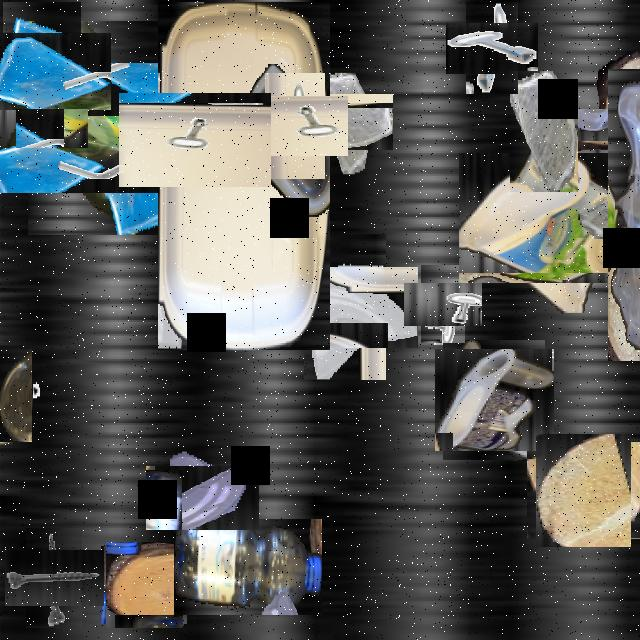glass: (288, 250, 402, 364), (0, 16, 96, 125), (510, 71, 578, 192), (158, 453, 246, 542), (305, 84, 383, 161)
metal: (254, 84, 336, 168), (15, 539, 93, 617), (456, 12, 528, 84), (412, 274, 473, 334), (24, 100, 80, 156), (33, 366, 71, 434)
plastic: (158, 2, 330, 350), (7, 42, 179, 214), (473, 139, 633, 298), (133, 79, 257, 202), (174, 519, 322, 615), (438, 344, 550, 456), (608, 69, 640, 361), (0, 347, 32, 442)
wood: (531, 438, 636, 543), (565, 80, 640, 183), (103, 544, 185, 626)
